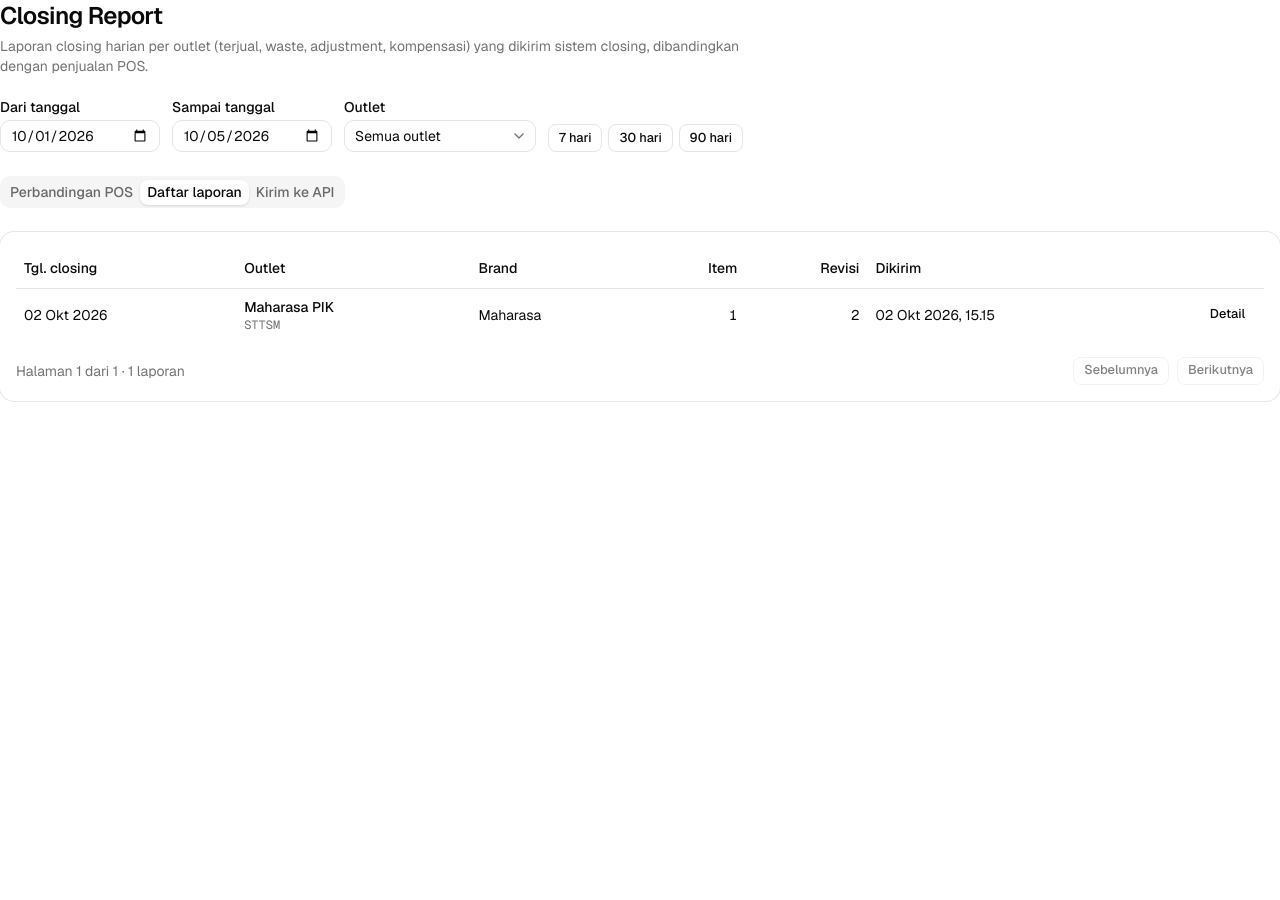
Scenario: ClosingView — daftar laporan › detail menampilkan item revisi aktif dan riwayat revisi
Click the button "Detail".
click(1227, 314)  # box [1199,300,1256,328]
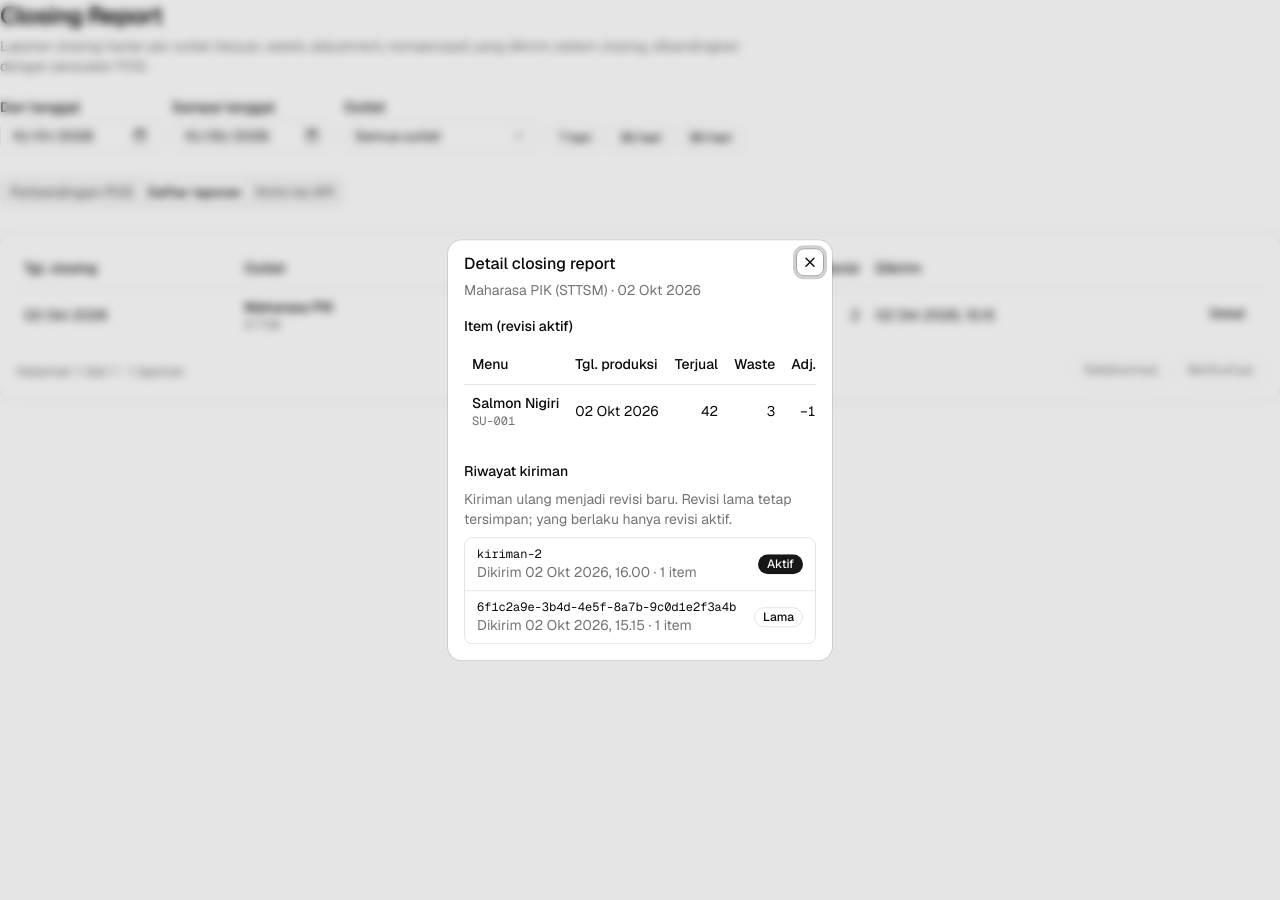
Check: the text "Salmon Nigiri" is shown, box [472,393,559,413]
Check: the text "−1" is shown, box [783,384,816,437]
Check: the text "kiriman-2" is shown, box [477,546,542,562]
